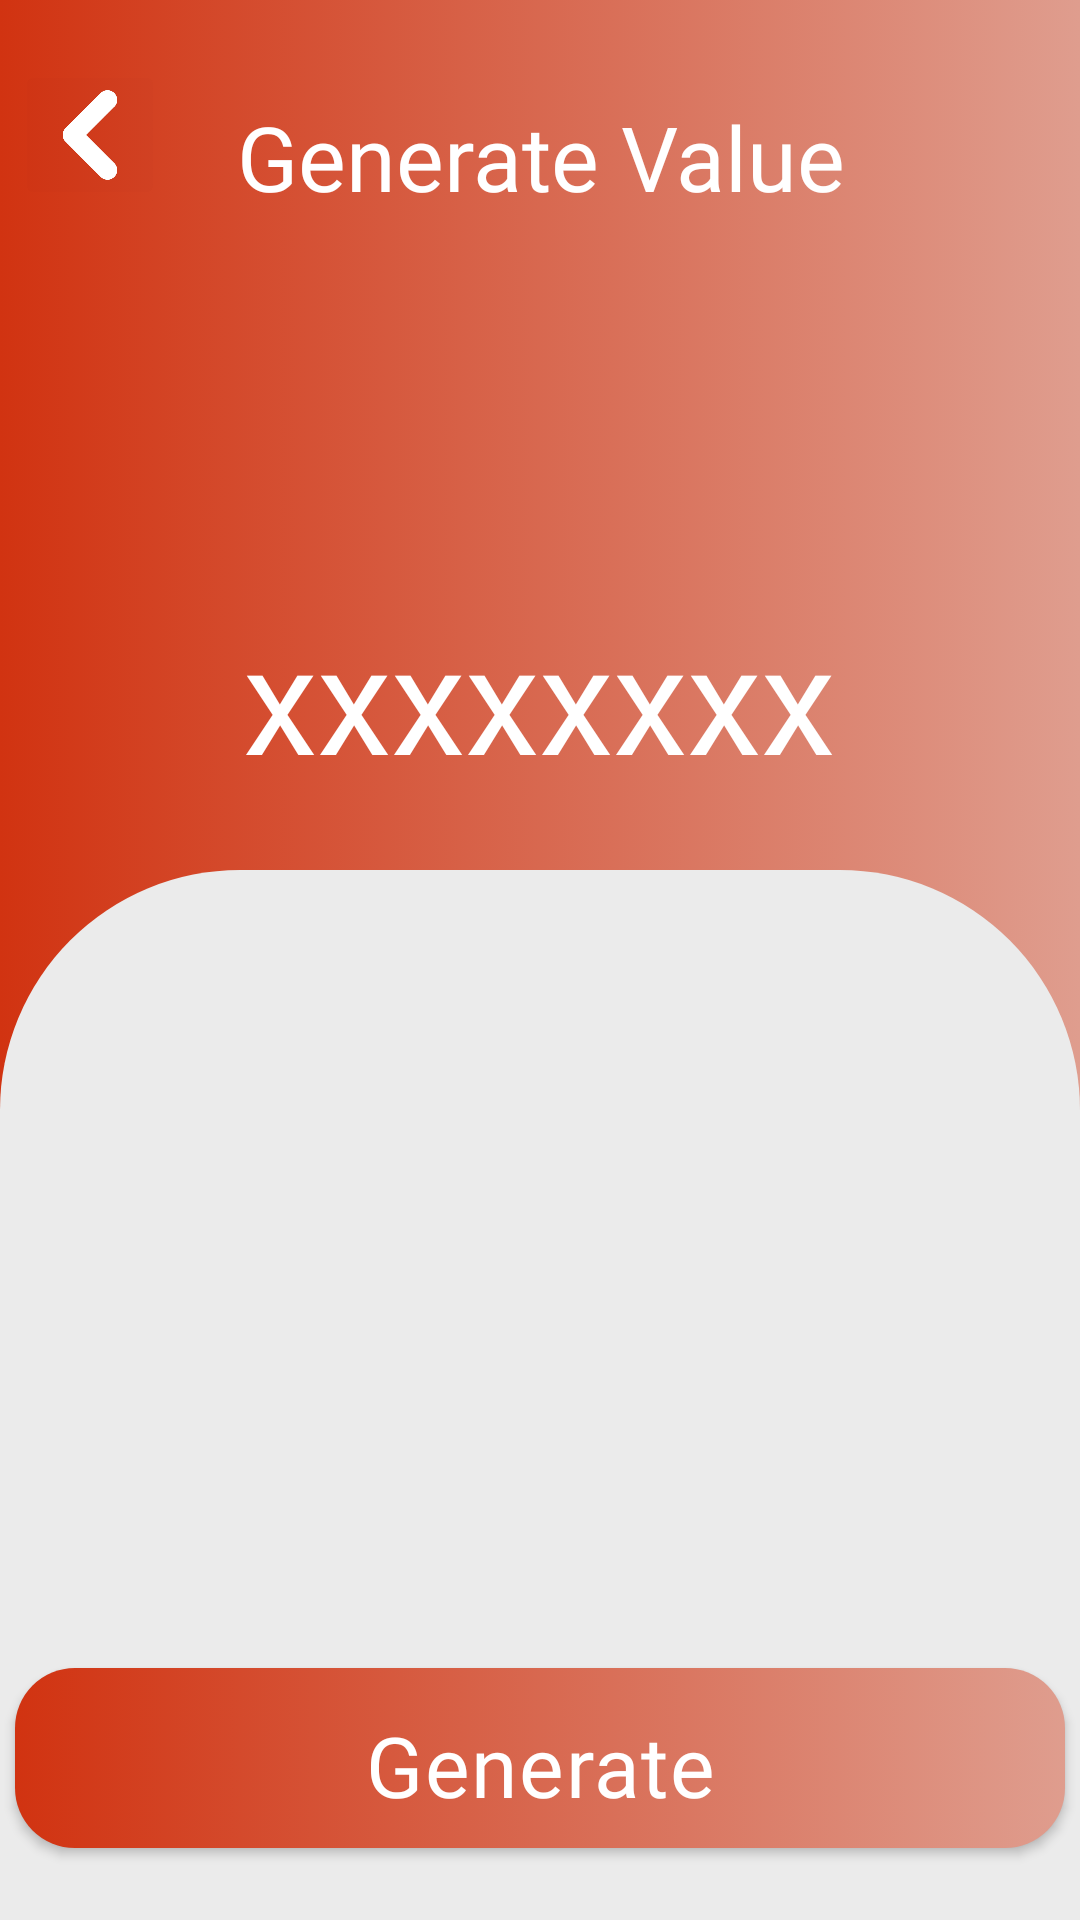

Locate icon controls on the screen. Image size 1080px x 1920px, boxes as (x1, y1, x2, y2).
back: (15, 60, 117, 210)
